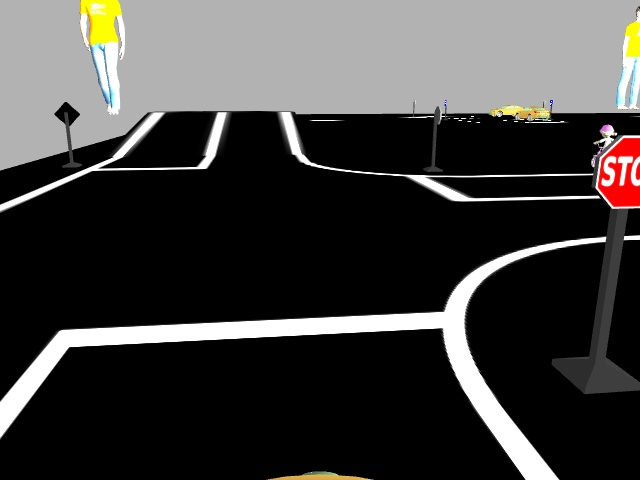Stop: (597, 131, 639, 215)
